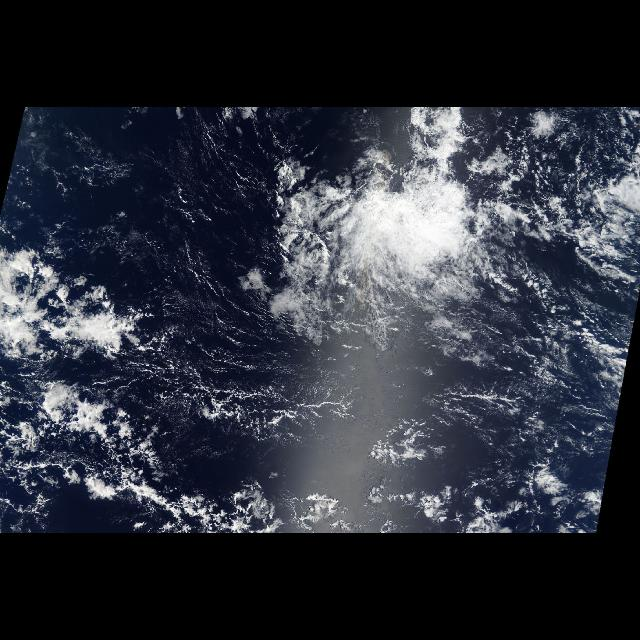Sugar: (130, 116, 340, 458)
